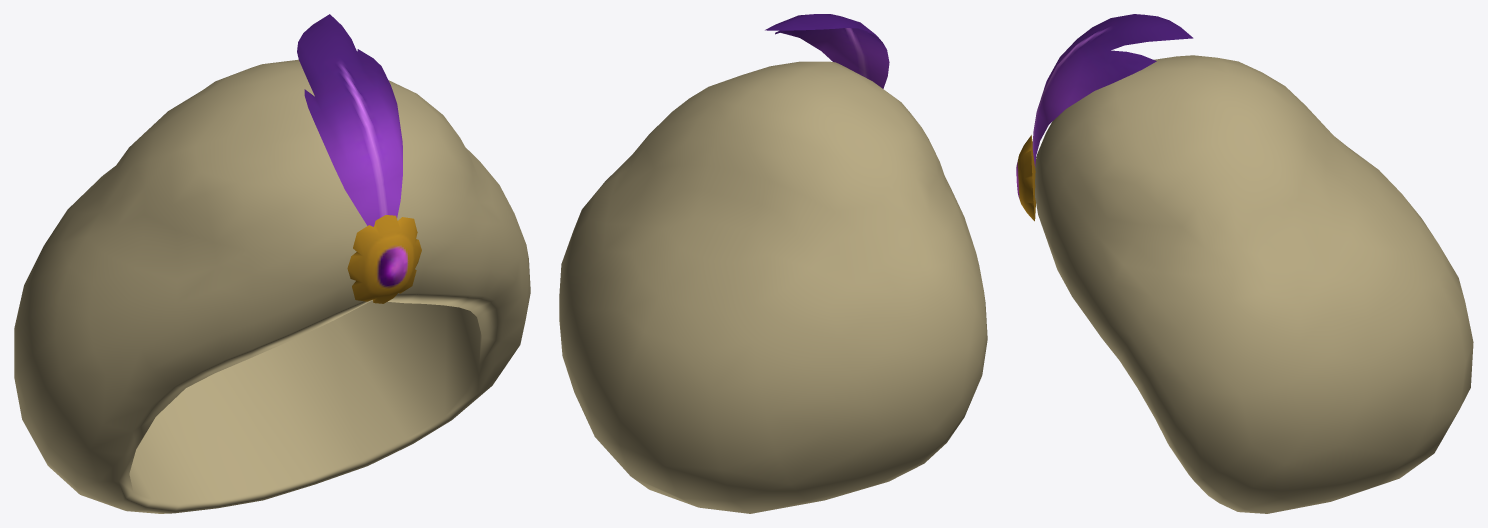
File: CapHelmetTurban0.glb
3 renders of one model, left to right at view 1: azimuth 30°, elevation 25°; view 2: azimuth 150°, elevation 25°; view 3: azimuth 270°, elevation 25°, orthographic. The views are drawn at different scales.
Parts seen in each view (by area): view 1: Body__mCap; view 2: Body__mCap; view 3: Body__mCap.
Part boxes in pixels (left/top/right/bottom): Body__mCap: left=14, top=14, right=530, bottom=513; Body__mCap: left=559, top=14, right=987, bottom=513; Body__mCap: left=1016, top=14, right=1473, bottom=513.
Bounding box in the file's own units: 8.99 × 9.13 × 8.22.
Materials: 1 (1 with a texture image).
